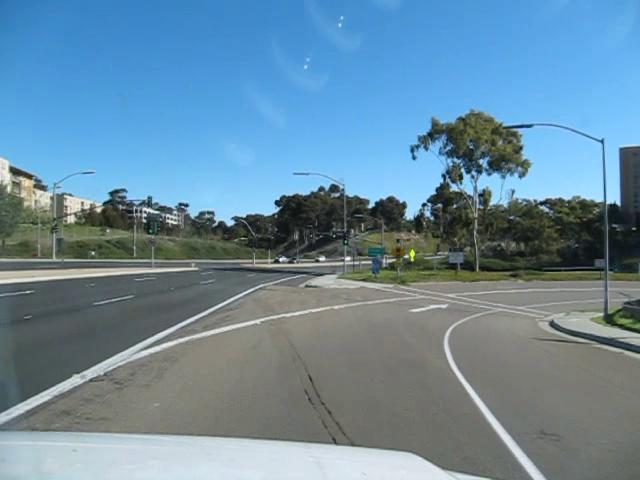signalAhead: (388, 244, 407, 261)
